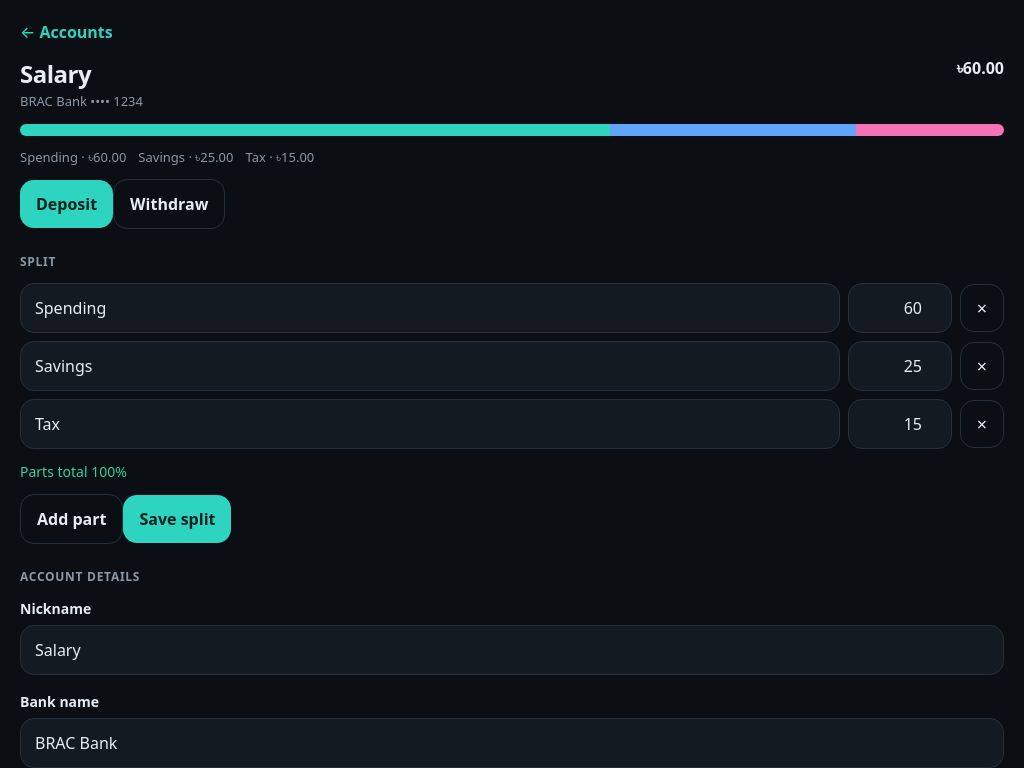
Test: withdraw sheet › blocks an amount larger than the part balance
Expected: the heading "Salary" is shown, [20,57,91,90]
Click the button "Withdraw": [169, 204] box [113,179,225,229]
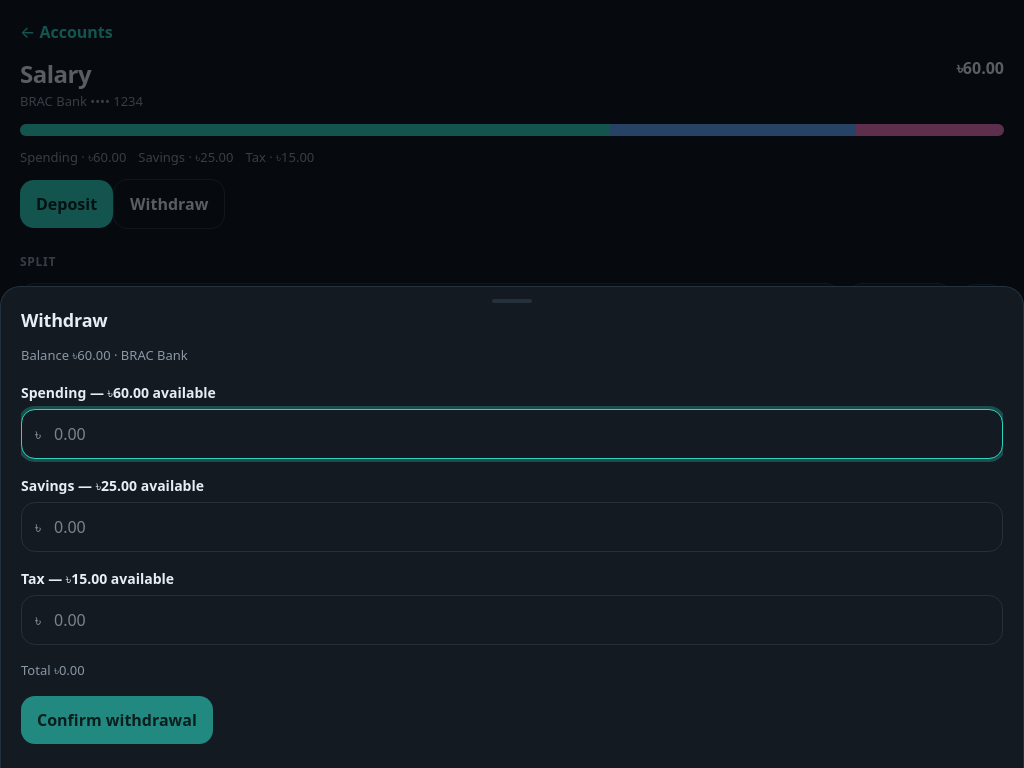
In the field labelled "Spending — ৳60.00 available": [512, 434] box [21,408,1003,458], type "61"
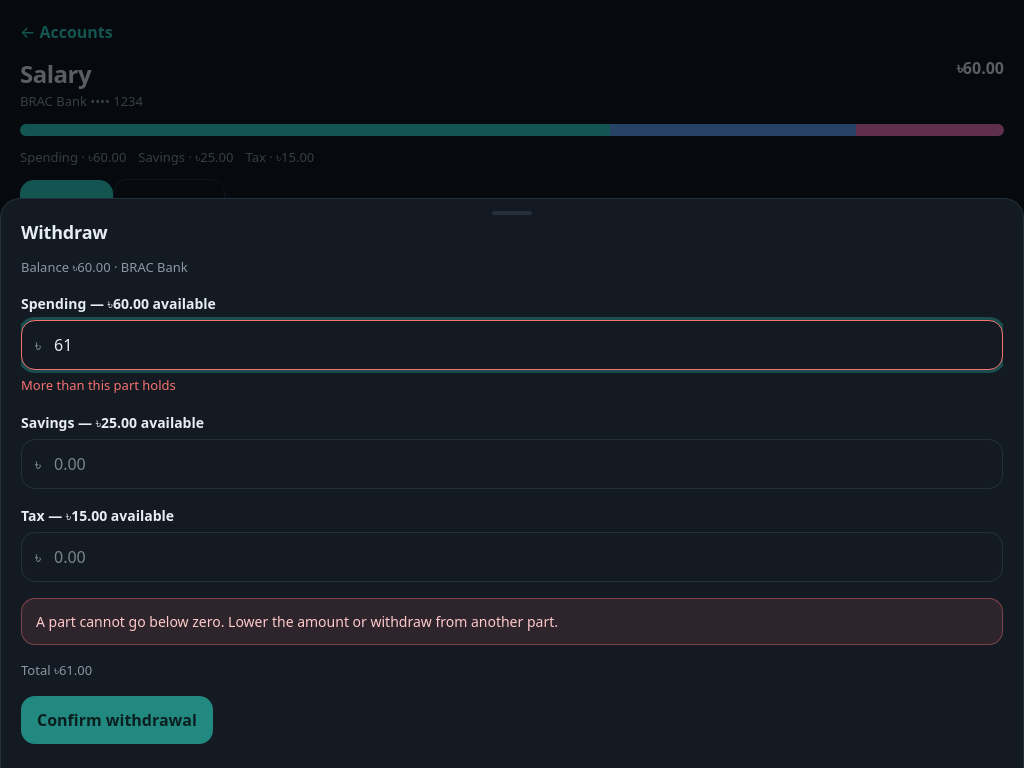
Result: the button "Confirm withdrawal" is disabled at [21,696,213,744]
Result: the text "More than this part holds" is shown at [21,376,176,394]
